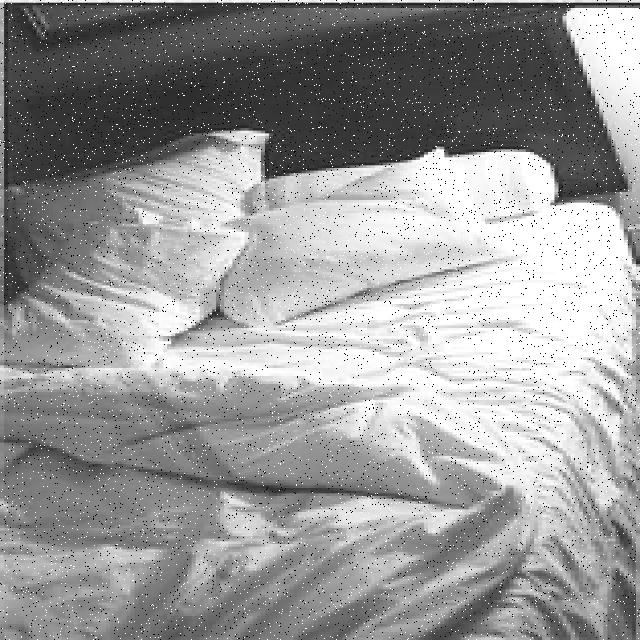bed: (0, 53, 616, 640)
